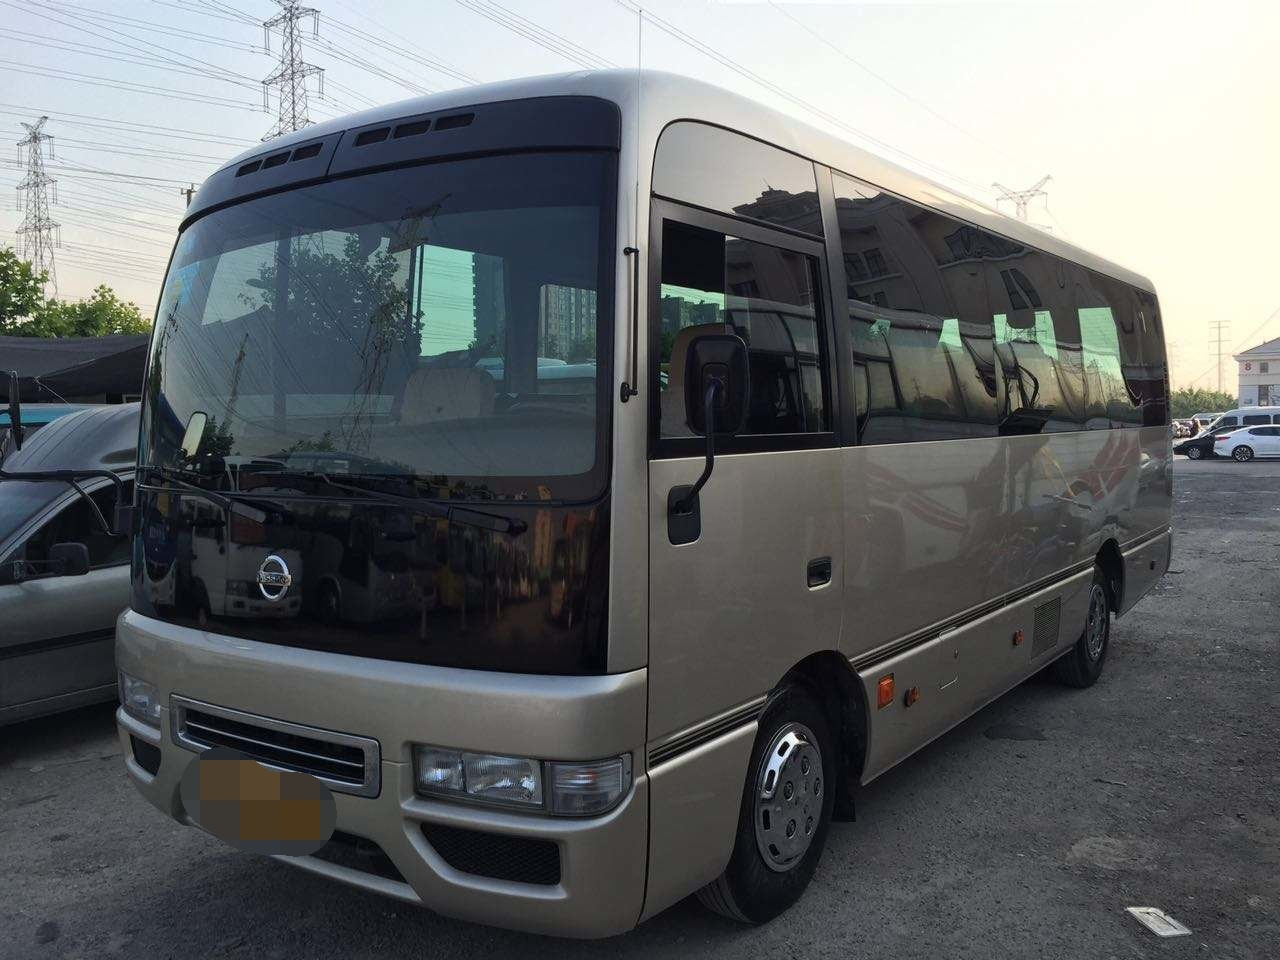bus: (95, 67, 1160, 923)
